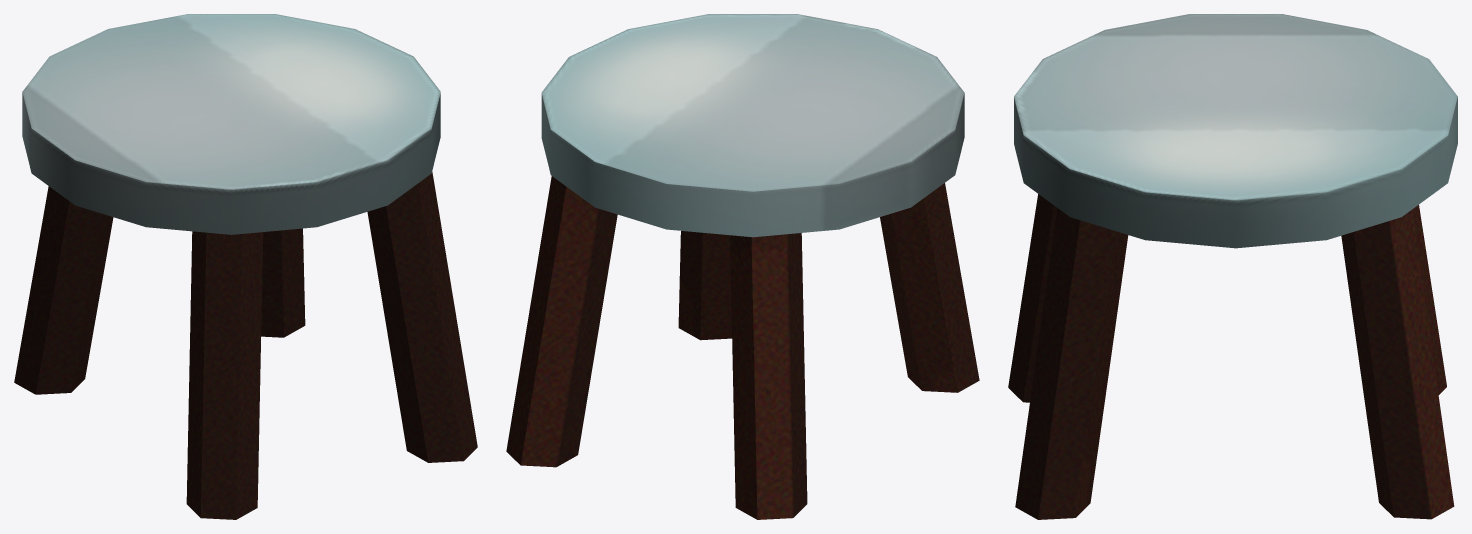
The model's file is Tx_Props_chair_ScienceDept.fbx.
3 renders of one model, left to right at view 1: azimuth 30°, elevation 25°; view 2: azimuth 150°, elevation 25°; view 3: azimuth 270°, elevation 25°, orthographic. The views are drawn at different scales.
Visible parts, largest first — view 1: Tx_Props_chair_ScienceDept; view 2: Tx_Props_chair_ScienceDept; view 3: Tx_Props_chair_ScienceDept.
Part boxes in pixels (x1,y1,x2,y2): Tx_Props_chair_ScienceDept: [14, 14, 477, 519]; Tx_Props_chair_ScienceDept: [506, 14, 979, 519]; Tx_Props_chair_ScienceDept: [1008, 14, 1457, 519].
Bounding box in the file's own units: 3.42 × 2.86 × 3.48.
